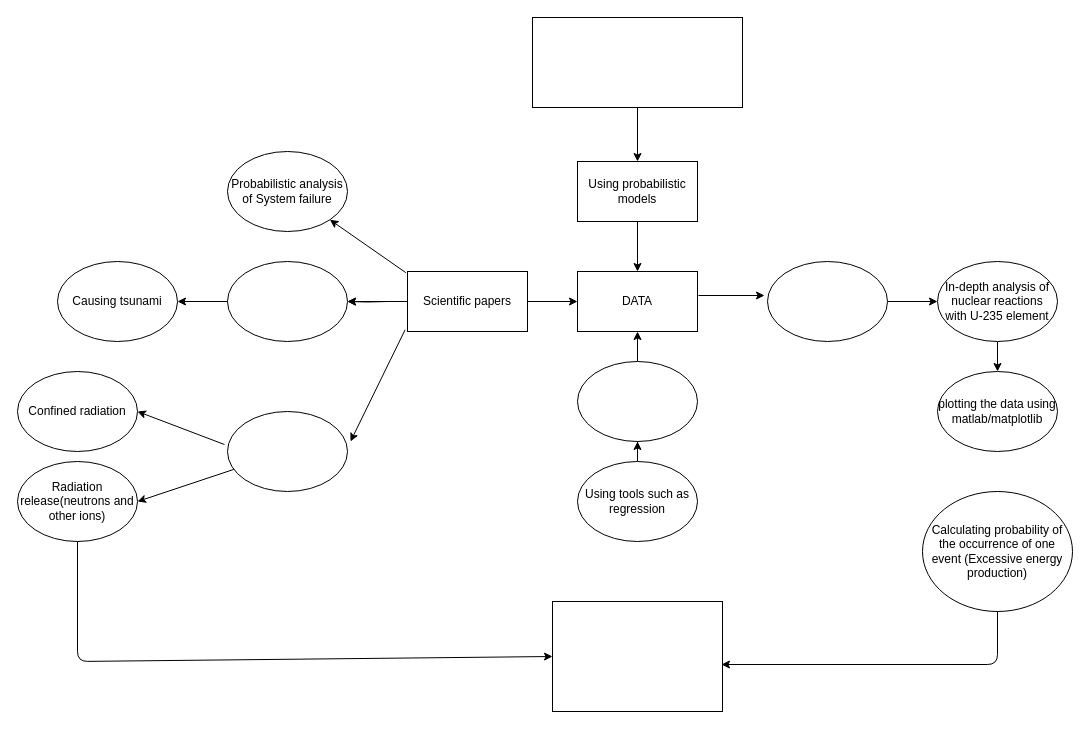
The diagram is 1090 pixels wide and 729 high, and some of its shapes have lost their labels. Each missing label, with the centre of its shape:
"Deriving equation and calculating constants" goes at (827,301).
"earthquake in the region" goes at (287,301).
"Nuclear reaction misbehaviour" goes at (287,451).
"Probability of occurrence of a nuclear accident due to molecular misbehaviour" goes at (637,656).
"Risk analysis of a major nuclear accident" goes at (637,62).
"Synthetic dataset with estimated value" goes at (637,401).
